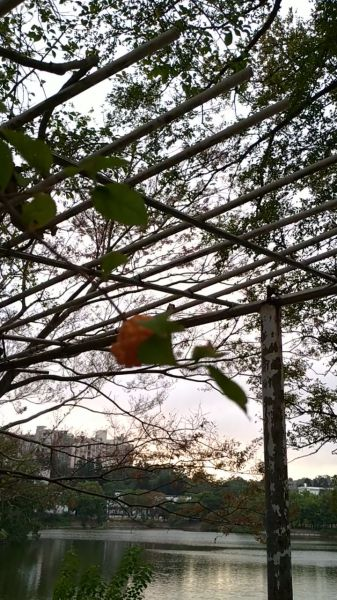eggs: (107, 311, 169, 373)
